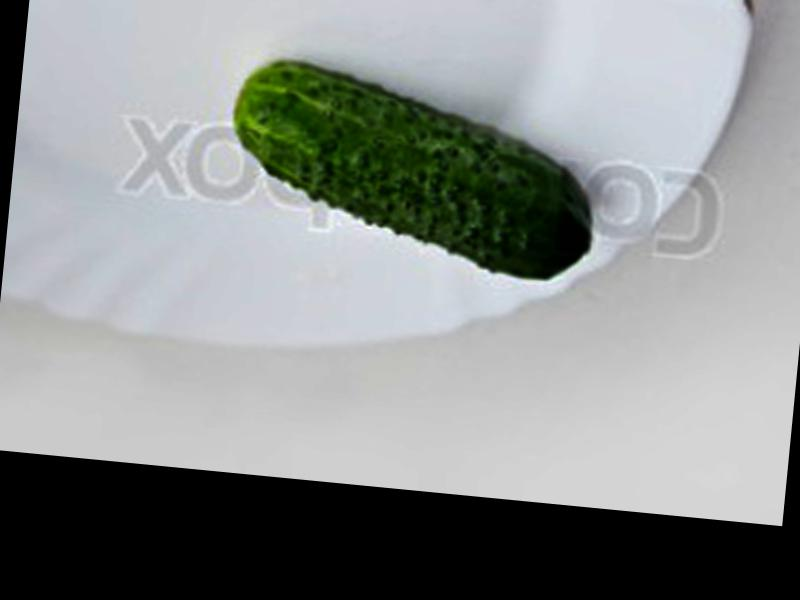Cucumber: (224, 56, 600, 283)
